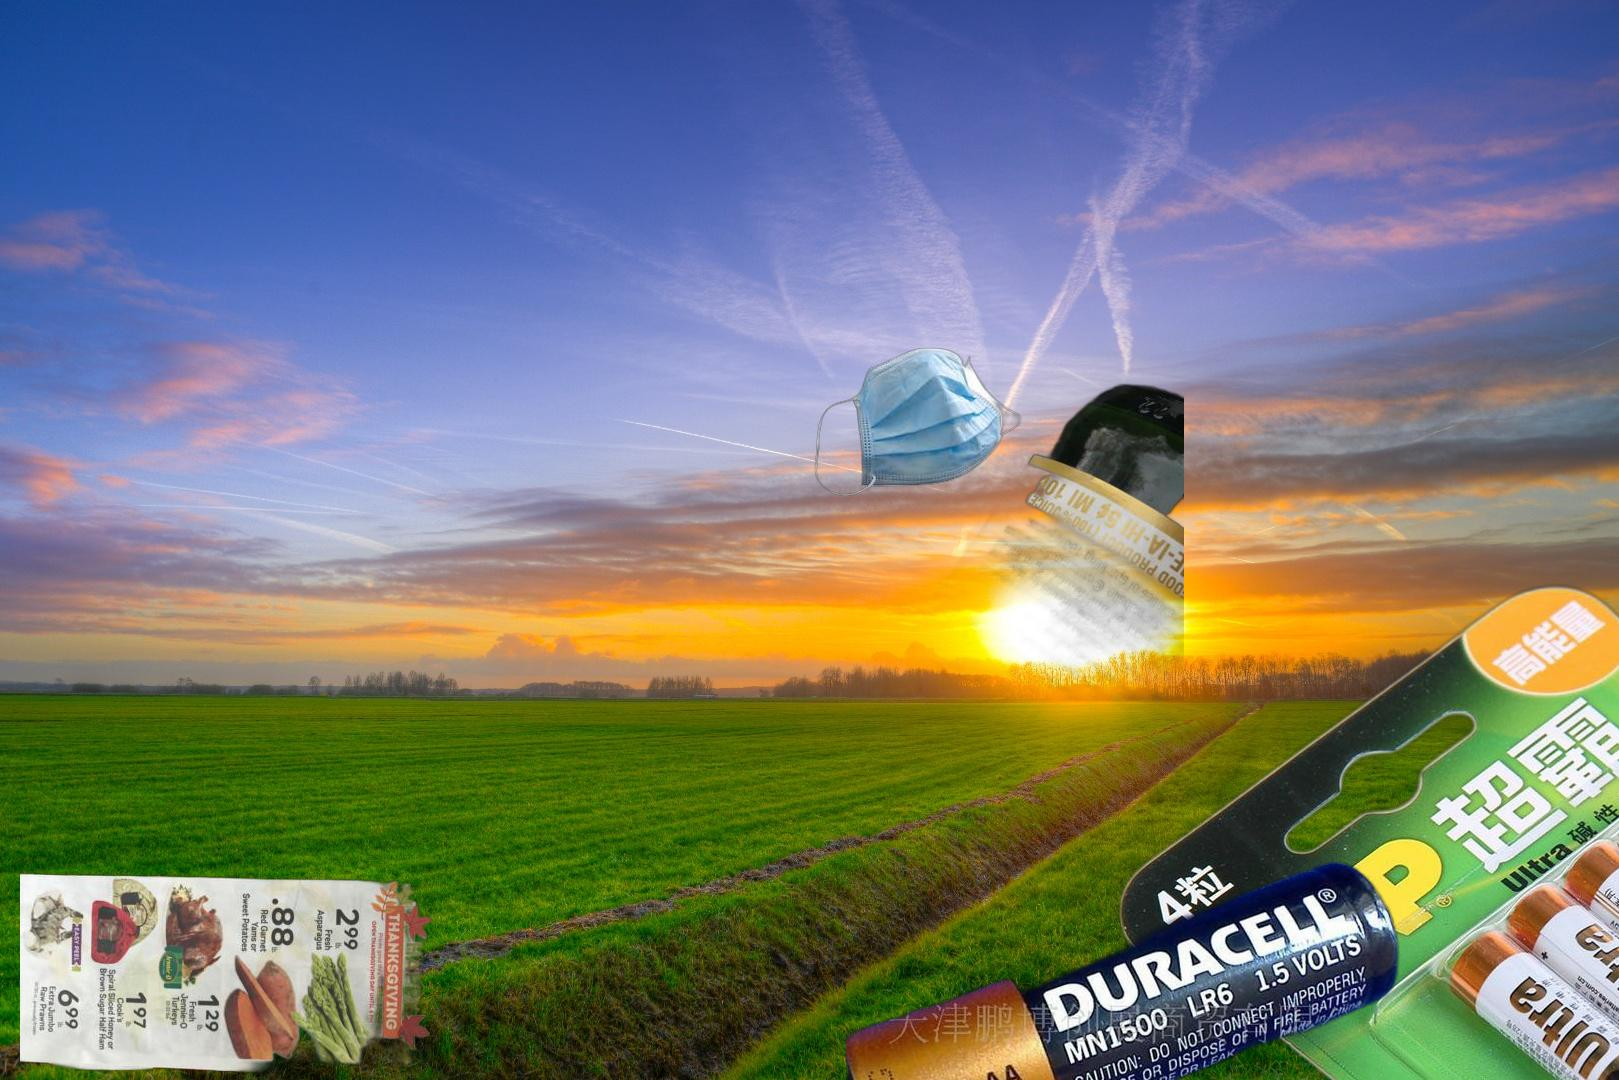battery: (1111, 579, 1619, 1080), (846, 858, 1403, 1080)
glass: (808, 380, 1184, 702)
paper: (20, 869, 436, 1080)
trash: (813, 345, 1023, 499)
